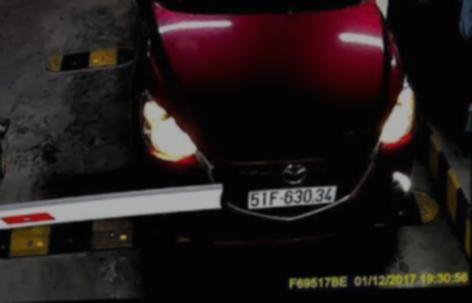License_Plate: (246, 185, 336, 211)
